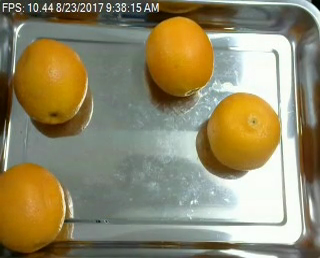Orange: (13, 38, 87, 122), (207, 92, 283, 171), (1, 162, 66, 253), (145, 14, 213, 95)
